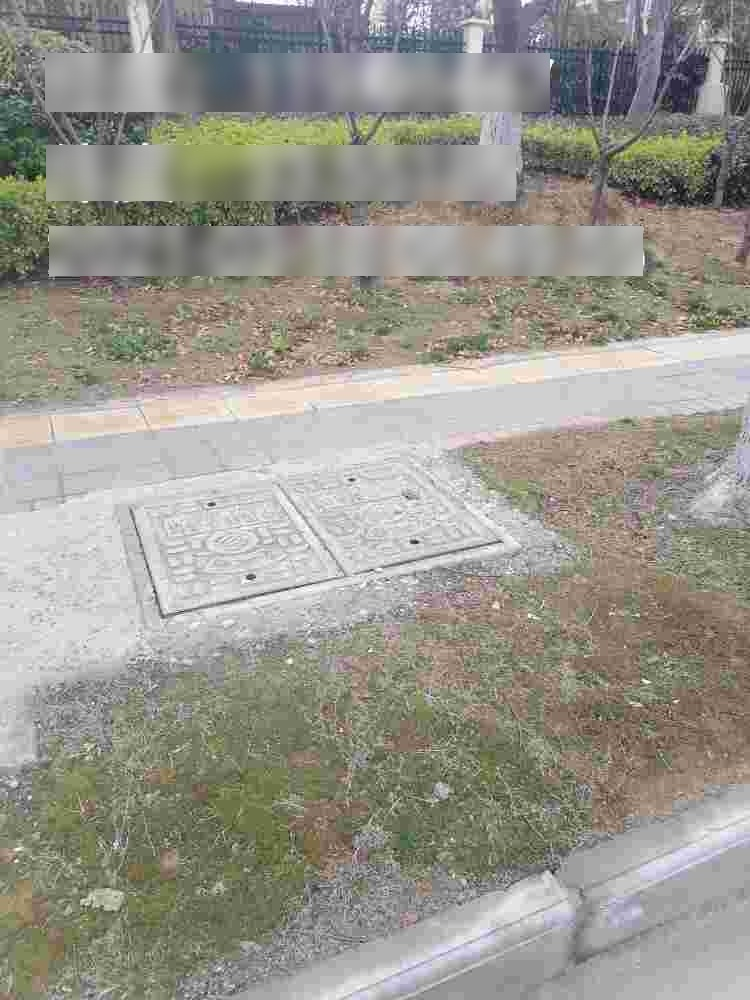good: (119, 450, 525, 630)
